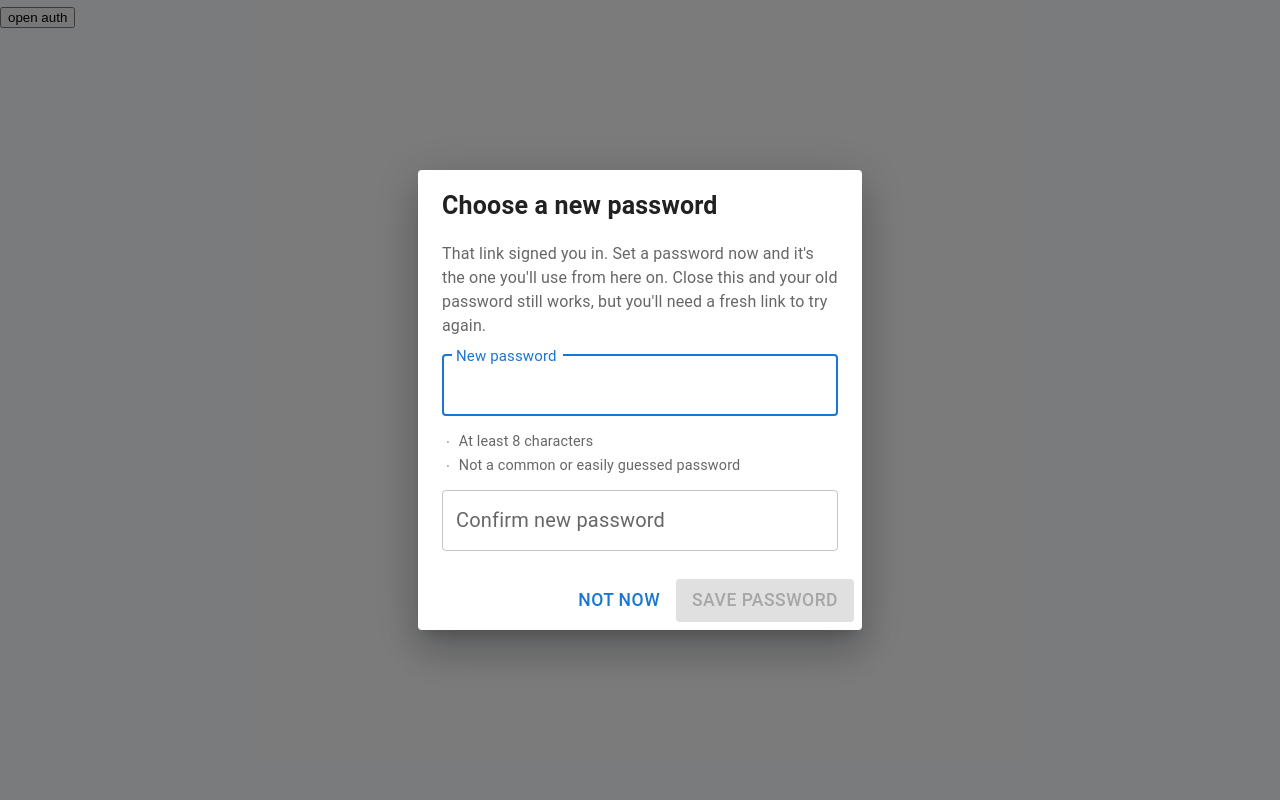
Test case: choosing the new password › will not save two passwords that disagree
Expected: the heading "Choose a new password" is shown, [442,191,718,220]
Type "a quiet tuesday" into the password field labelled "New password".
click(640, 385); type("a quiet tuesday")  # box [442,354,838,416]
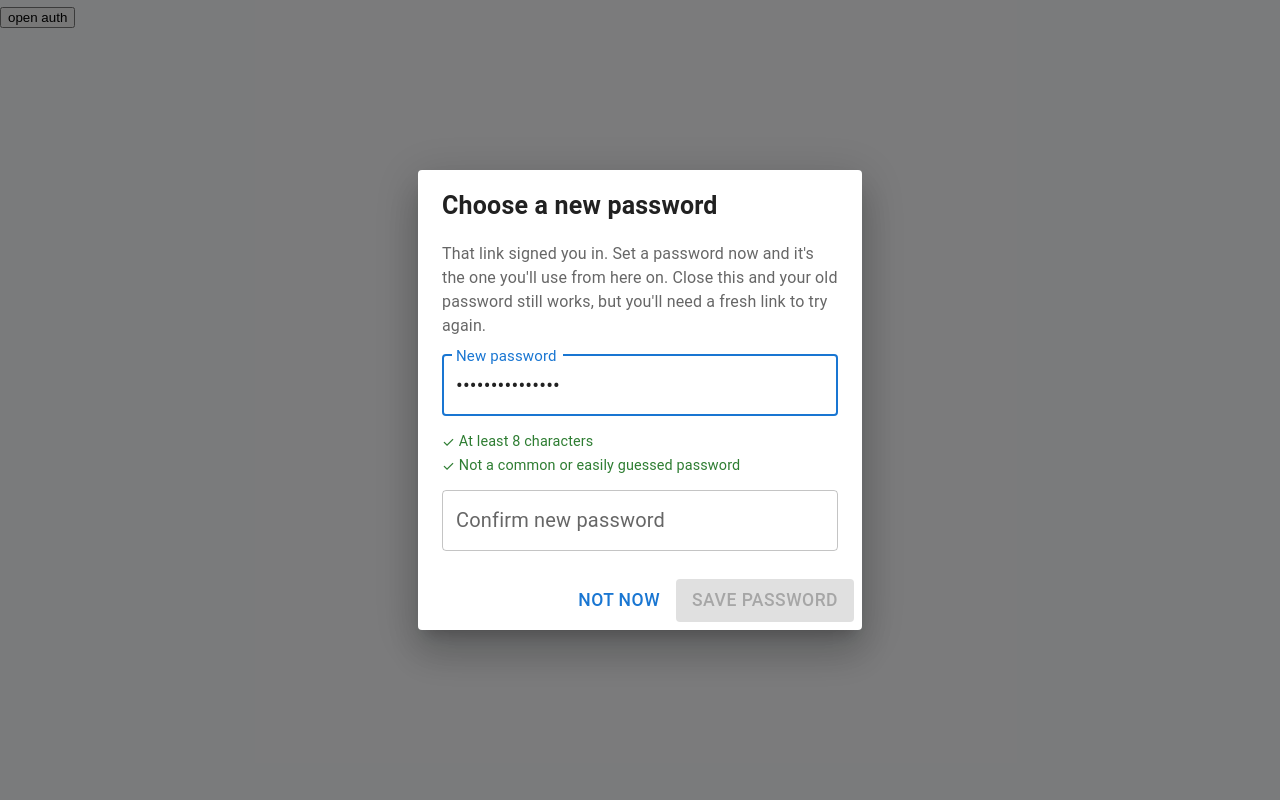
Type "a quiet wednesday" into the password field labelled "Confirm new password".
click(640, 520); type("a quiet wednesday")  # box [442,490,838,551]
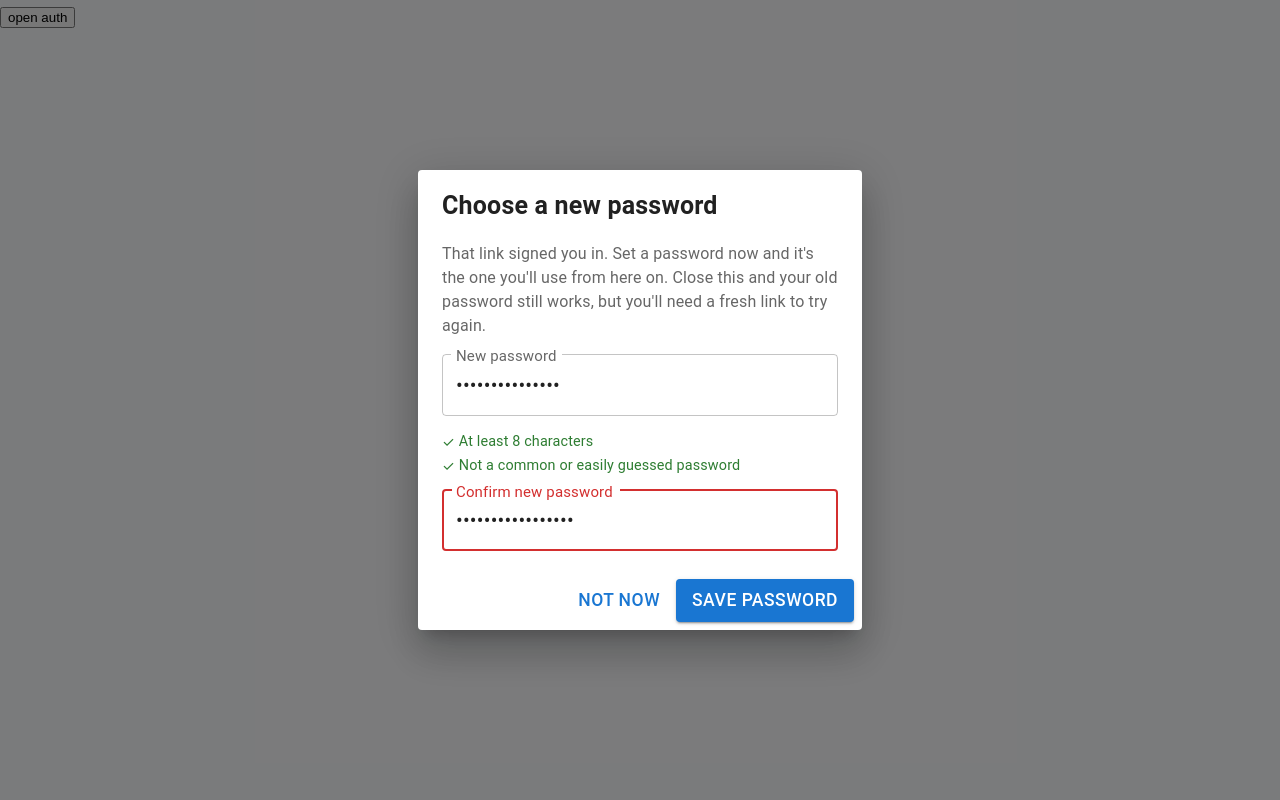
Click the button "Save password".
click(765, 601)  # box [676,579,854,622]
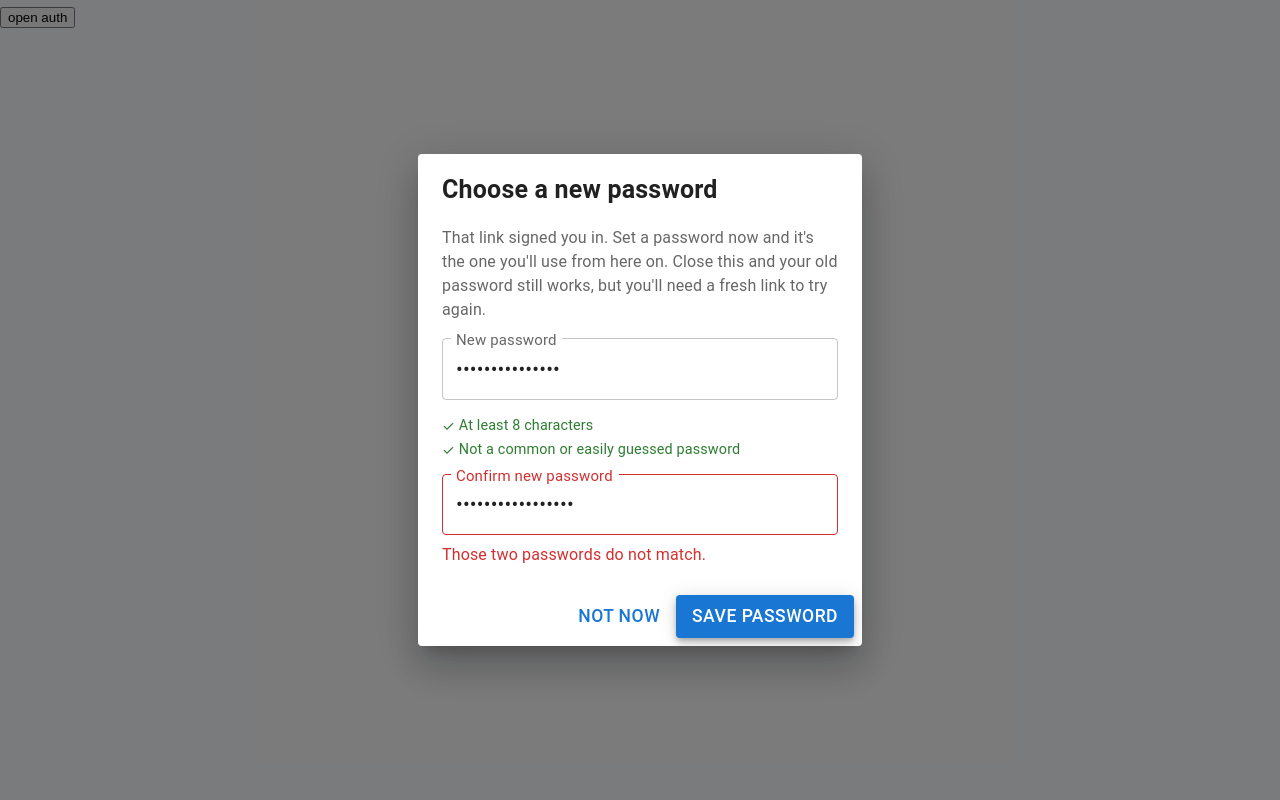
Now the text "Those two passwords do not match." is shown, box [442,543,706,567]
